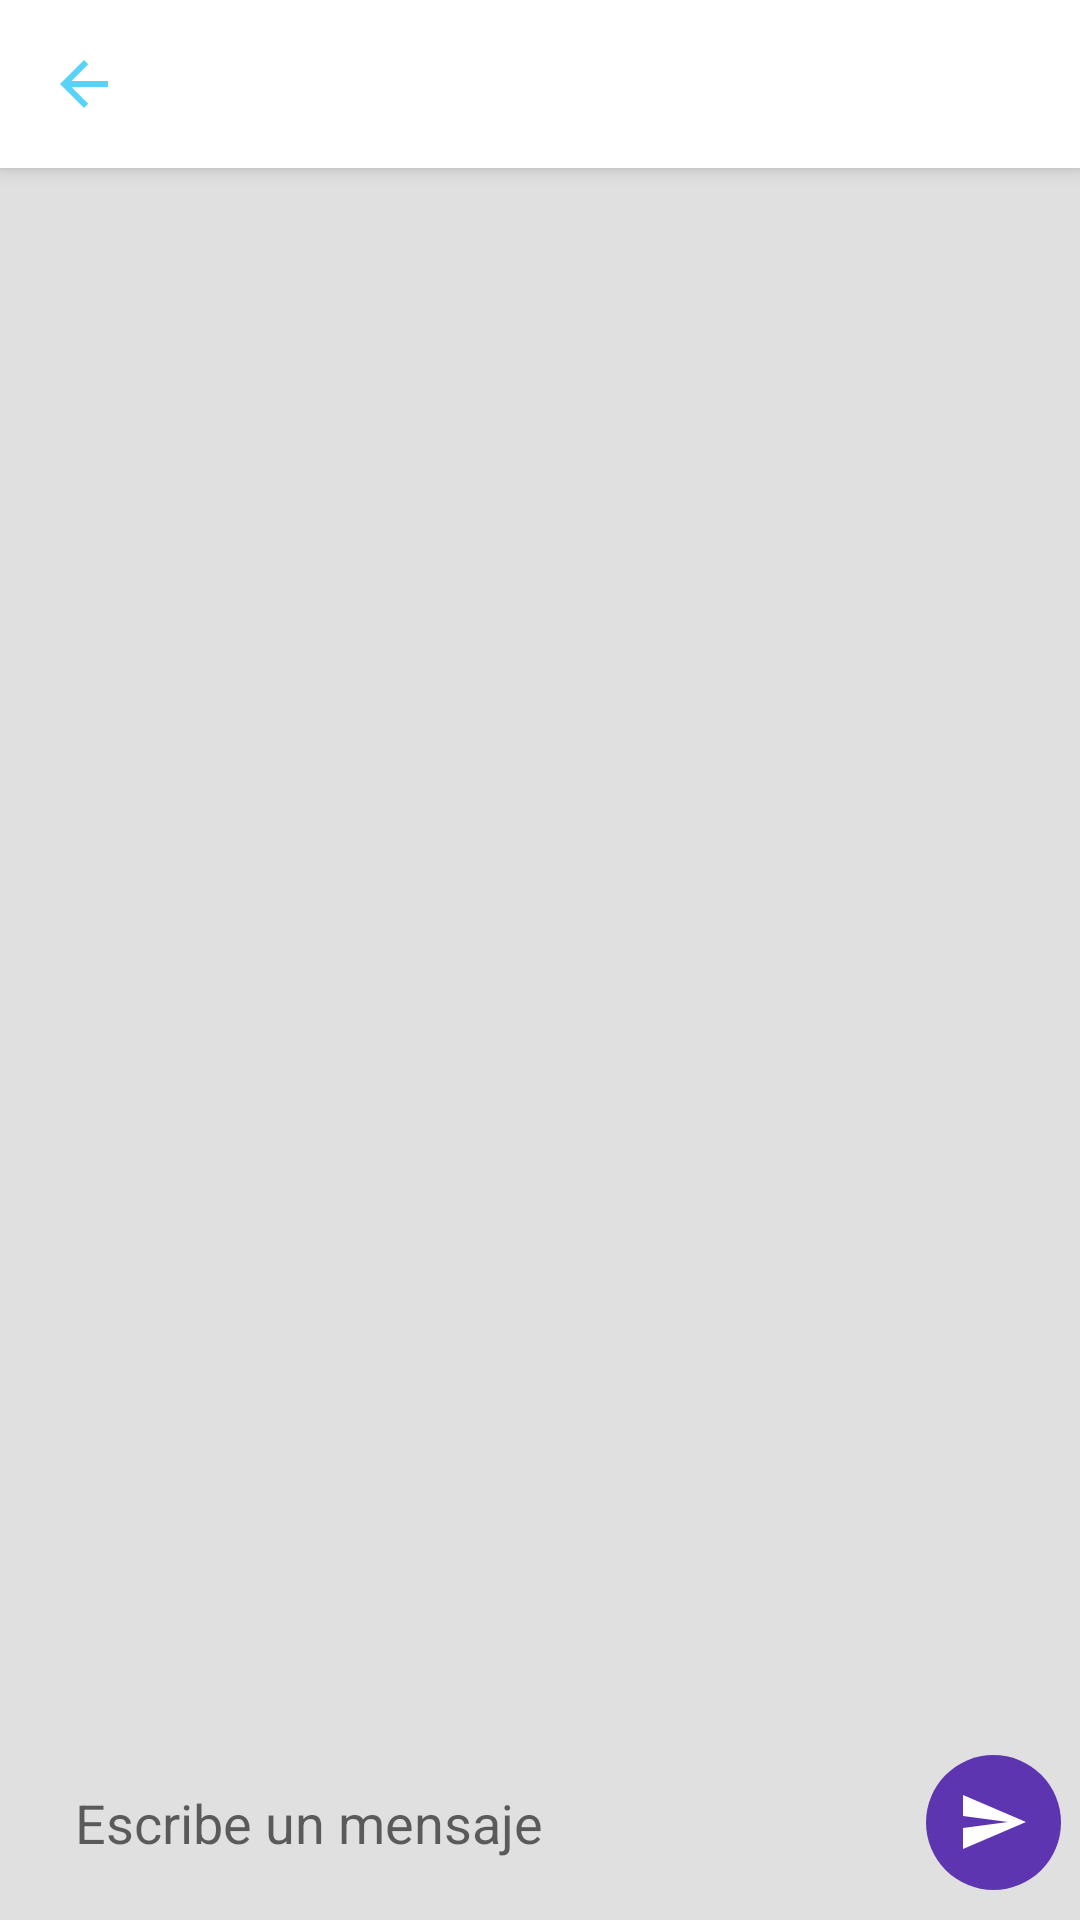

Screen size 1080×1920. Icon name, then its center in pixels as (x,y):
send: (994,1822)
